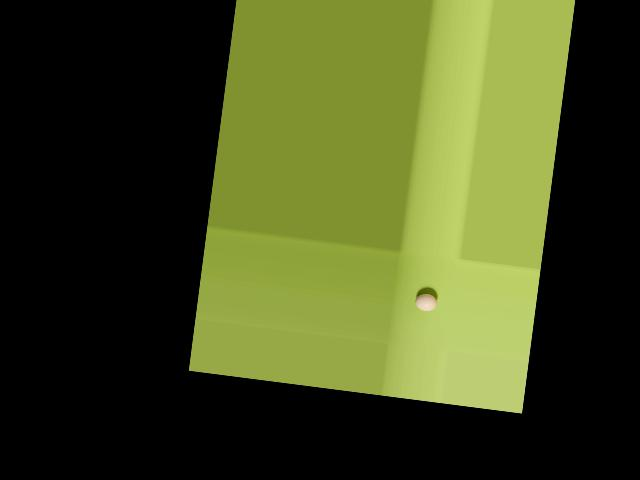egg: (413, 292, 437, 311)
